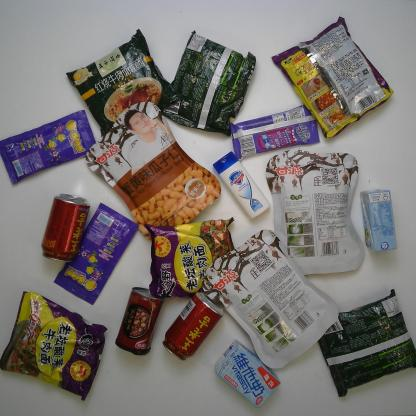Candy: (52, 203, 140, 305), (0, 110, 98, 186), (228, 102, 322, 159)
Canned Food: (114, 287, 161, 356)
Dried Fruit: (84, 101, 222, 242), (202, 229, 340, 369), (265, 148, 365, 278)
Drink: (162, 292, 223, 361), (39, 195, 90, 264)
Instant Noodles: (270, 17, 394, 138), (64, 27, 180, 139), (307, 288, 416, 398), (1, 290, 108, 401), (158, 30, 256, 137), (141, 216, 240, 299)
Milk: (213, 342, 282, 406), (360, 188, 397, 254)
Personal Hygiene: (212, 150, 271, 219)
